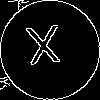X: (25, 25, 63, 74)
